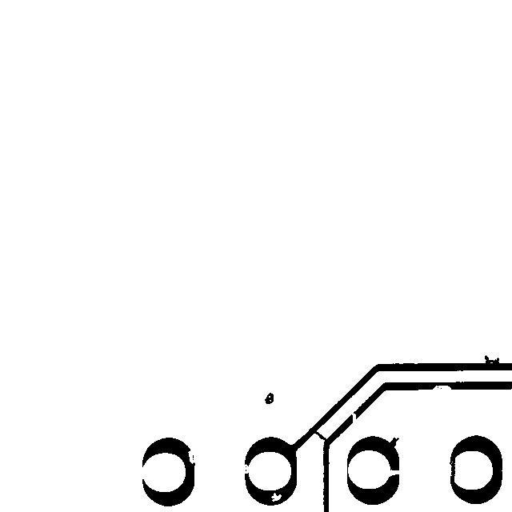copper: (257, 385, 281, 411)
mousebite: (180, 442, 203, 471), (425, 378, 458, 398)
open: (373, 462, 410, 484), (342, 402, 363, 434), (235, 456, 256, 481)
pin-hole: (263, 485, 289, 509)
short: (443, 443, 465, 490), (302, 422, 335, 450)
spur: (477, 347, 506, 373), (381, 430, 406, 455)
